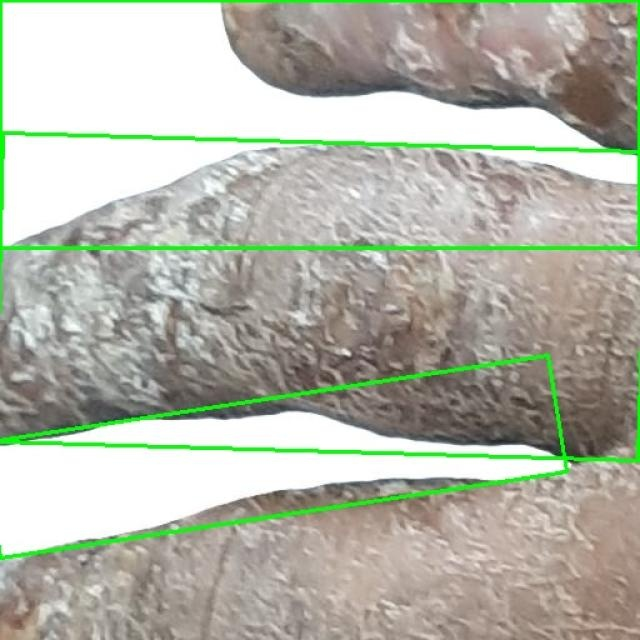Eczema: (0, 133, 640, 461), (0, 0, 639, 248), (0, 355, 567, 561)
